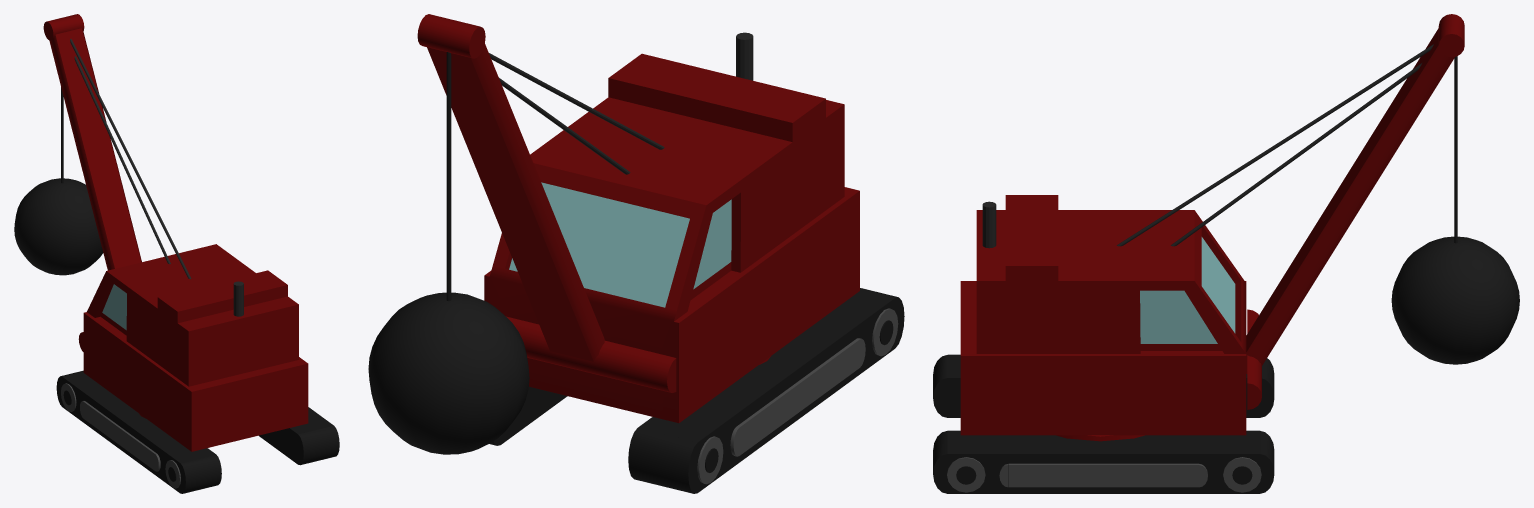
3 views of the same model, side by side, from view 1: azimuth 30°, elevation 25°; view 2: azimuth 150°, elevation 25°; view 3: azimuth 270°, elevation 25° (orthographic). The views are drawn at different scales.
Visible parts, largest first — view 1: group12_pasted__Cabal, Wheels1, polySurface1; view 2: group12_pasted__Cabal, Wheels1, polySurface1; view 3: group12_pasted__Cabal, Wheels1, polySurface1.
Part boxes in pixels (<box>): group12_pasted__Cabal: <box>43,14,308,451</box>; Wheels1: <box>56,370,339,493</box>; polySurface1: <box>14,87,103,275</box>; group12_pasted__Cabal: <box>417,14,859,423</box>; Wheels1: <box>489,288,904,493</box>; polySurface1: <box>368,52,529,454</box>; group12_pasted__Cabal: <box>960,14,1464,435</box>; Wheels1: <box>933,354,1274,493</box>; polySurface1: <box>1391,56,1519,364</box>.
Size of the model in its own units: 19.43 by 37.37 by 47.45.
